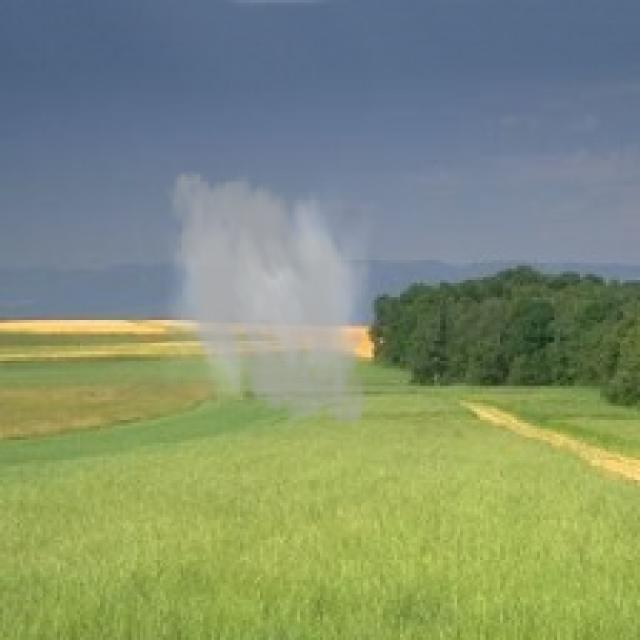smoke: (148, 160, 383, 437)
